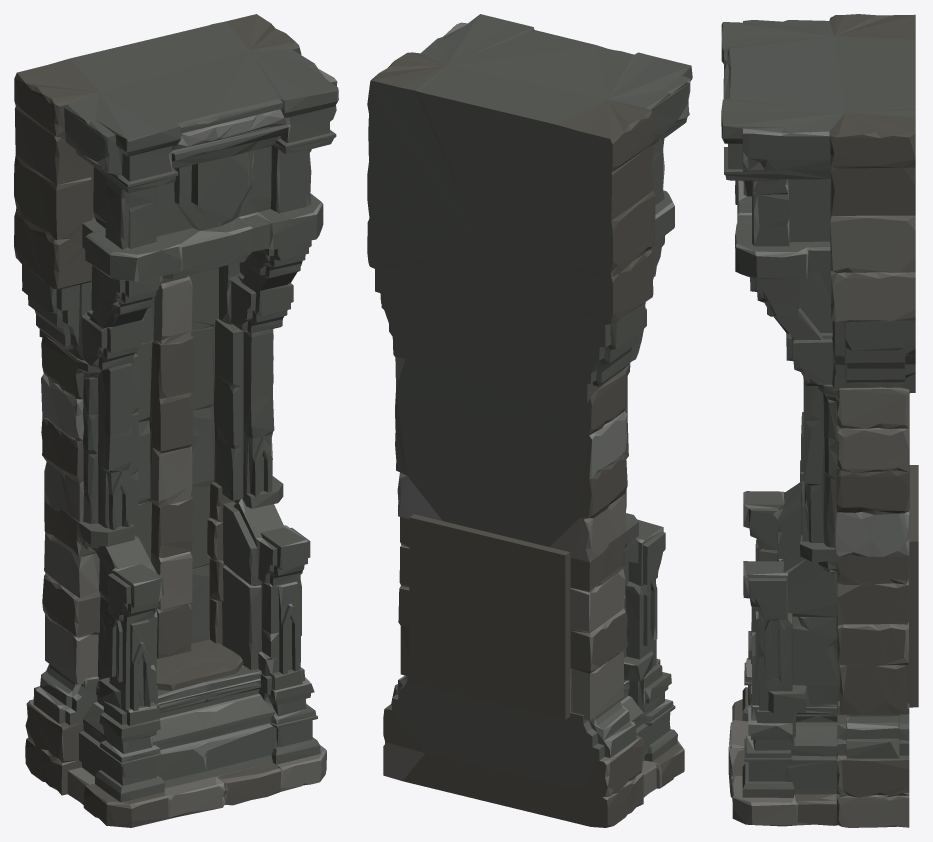
The model's file is MDungeon_GiantPillar_01.FBX.
3 renders of one model, left to right at view 1: azimuth 30°, elevation 25°; view 2: azimuth 150°, elevation 25°; view 3: azimuth 270°, elevation 25°, orthographic.
Visible parts, largest first — view 1: MDungeon_GiantPillar_01_LOD0; view 2: MDungeon_GiantPillar_01_LOD0; view 3: MDungeon_GiantPillar_01_LOD0.
Part boxes in pixels (x1,y1,x2,y2): MDungeon_GiantPillar_01_LOD0: [14, 14, 338, 827]; MDungeon_GiantPillar_01_LOD0: [367, 14, 692, 827]; MDungeon_GiantPillar_01_LOD0: [721, 14, 918, 827].
Size of what is drawn, in the model's own units: 6.58 by 17.81 by 4.54.
